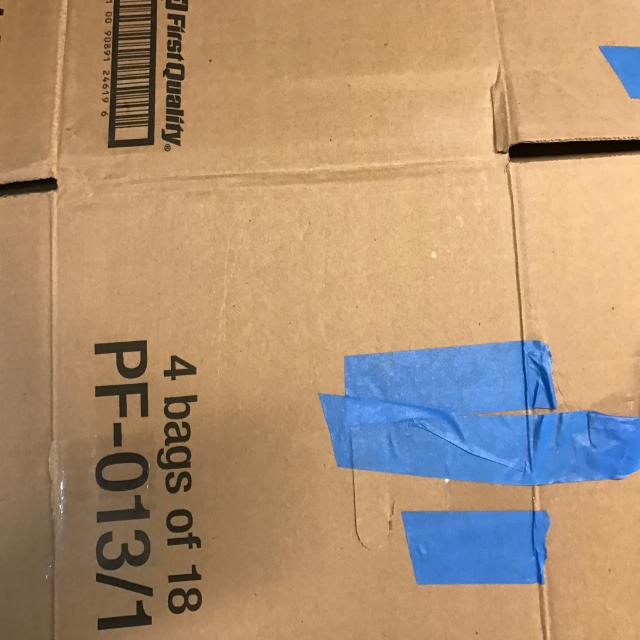cardboard: (2, 1, 638, 638)
